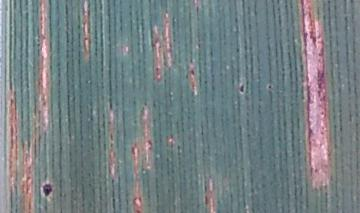tarspot: (40, 181, 54, 198), (237, 82, 245, 94), (267, 82, 273, 91)
